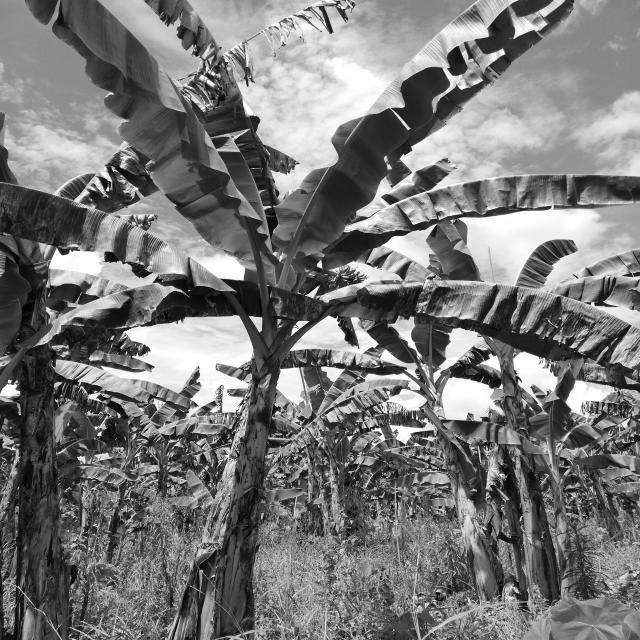Banana-plant: (166, 316, 324, 640), (479, 340, 572, 624), (5, 265, 74, 636), (417, 391, 505, 599)
